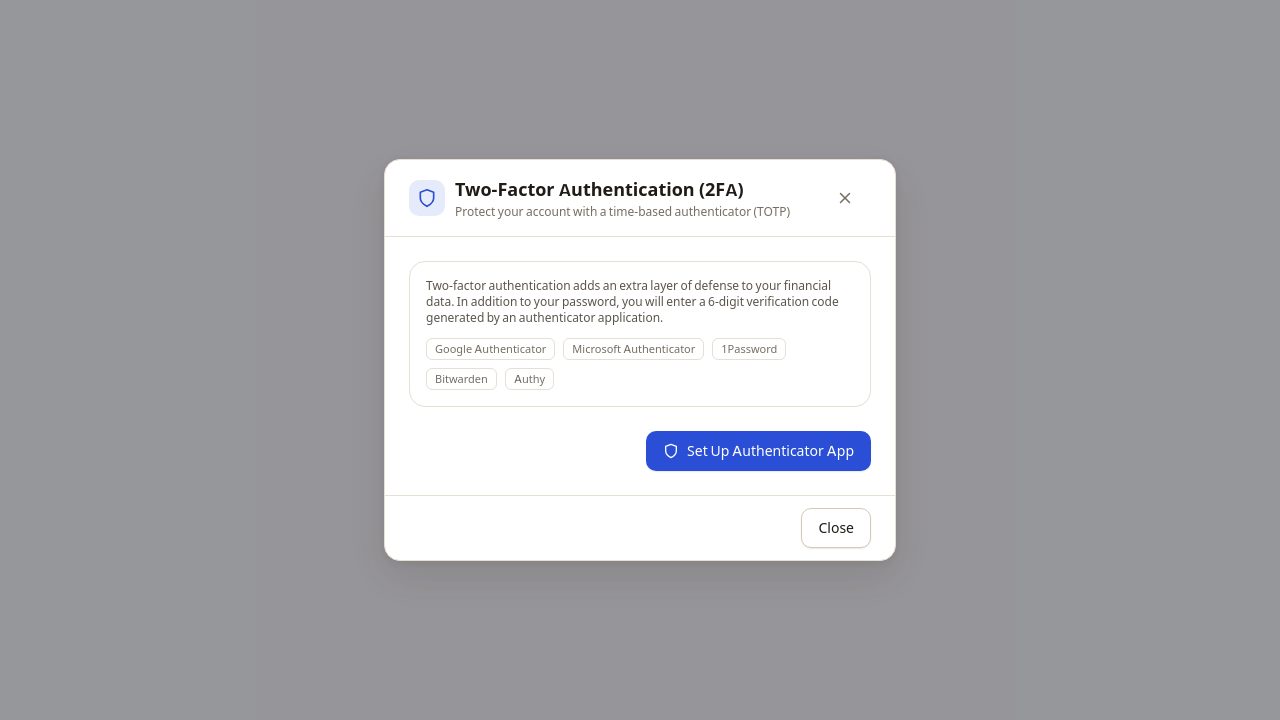
Scenario: Two-Factor Authentication (AUTH-14) › rejects invalid verification code with error message
The width and height of the screenshot is (1280, 720).
Click the button "Set Up Authenticator App" at [759, 451], box [646, 431, 871, 471]
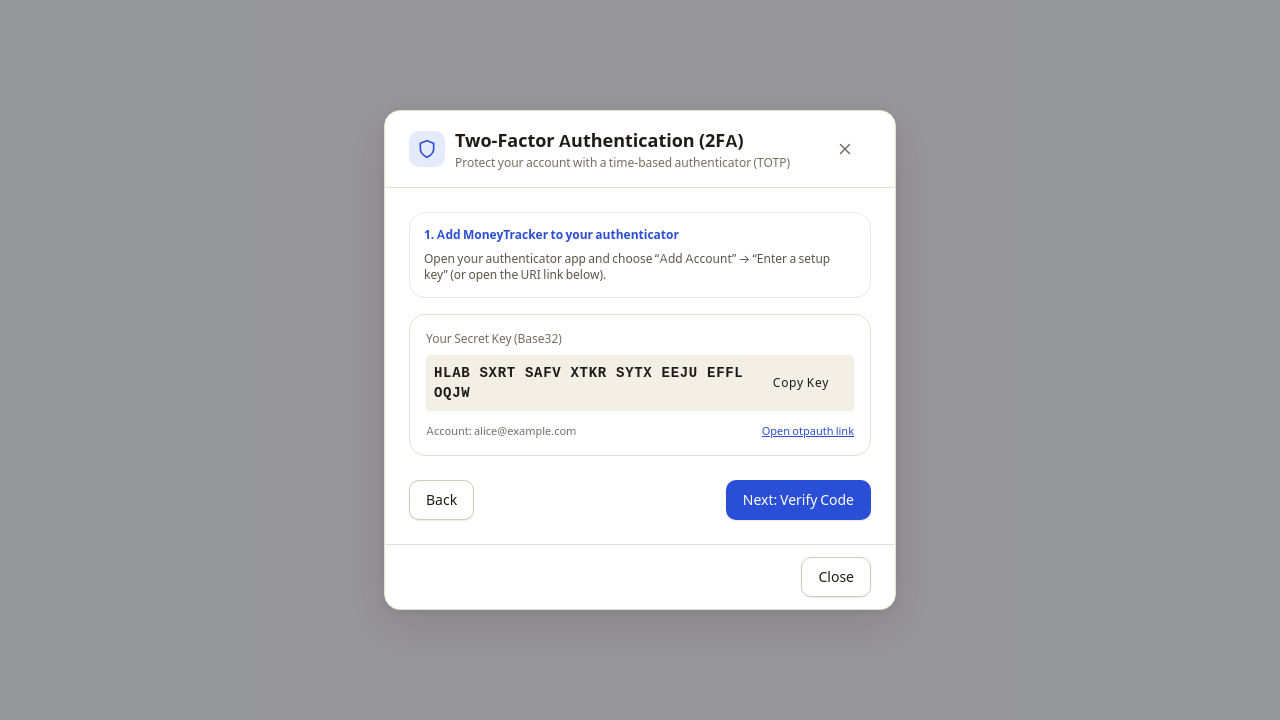
Click the button "Next: Verify Code" at [798, 500], box [726, 480, 871, 520]
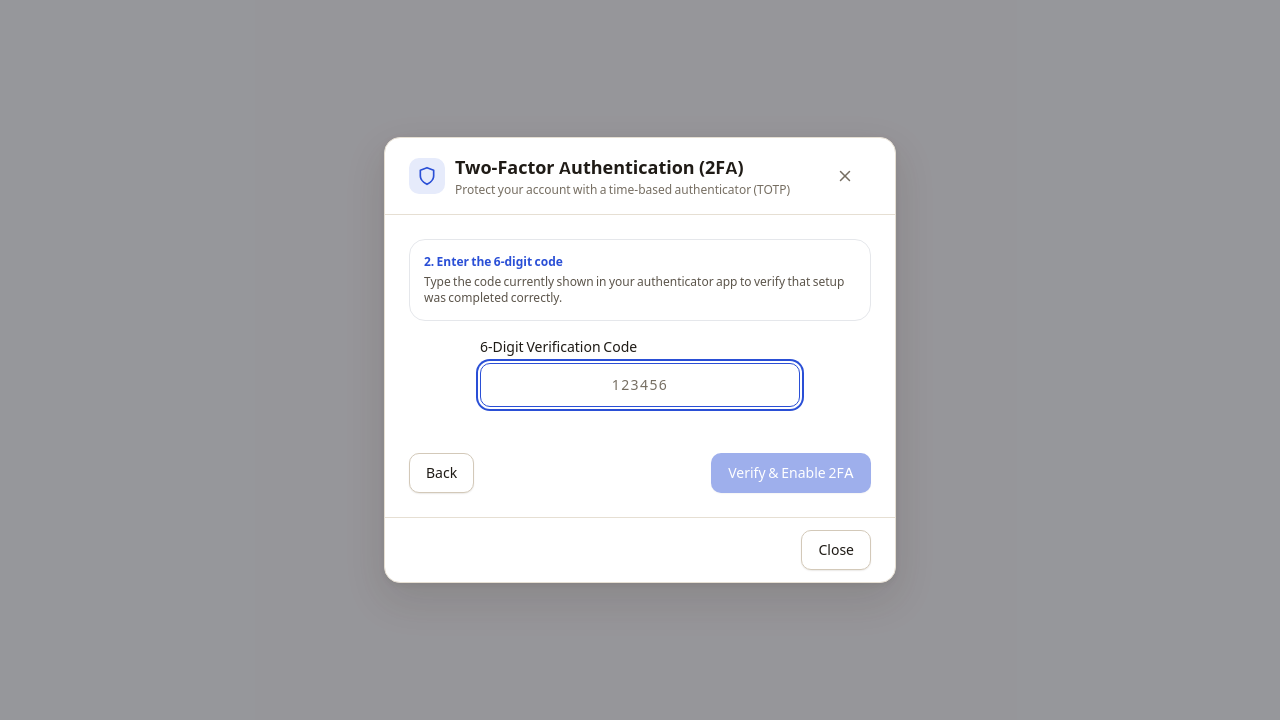
Type "000000" into the field labelled "6-Digit Verification Code" at [640, 385], box [480, 363, 800, 407]
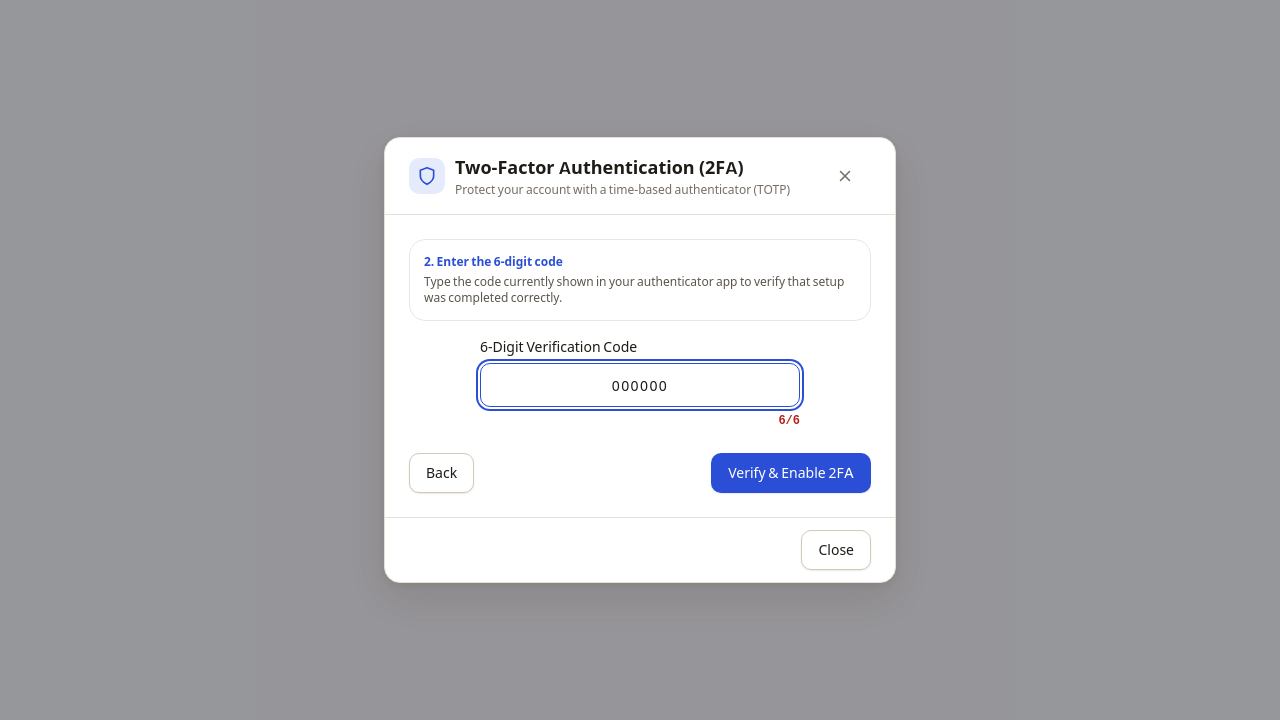
Click the button "Verify & Enable 2FA" at [791, 473], box [711, 453, 871, 493]
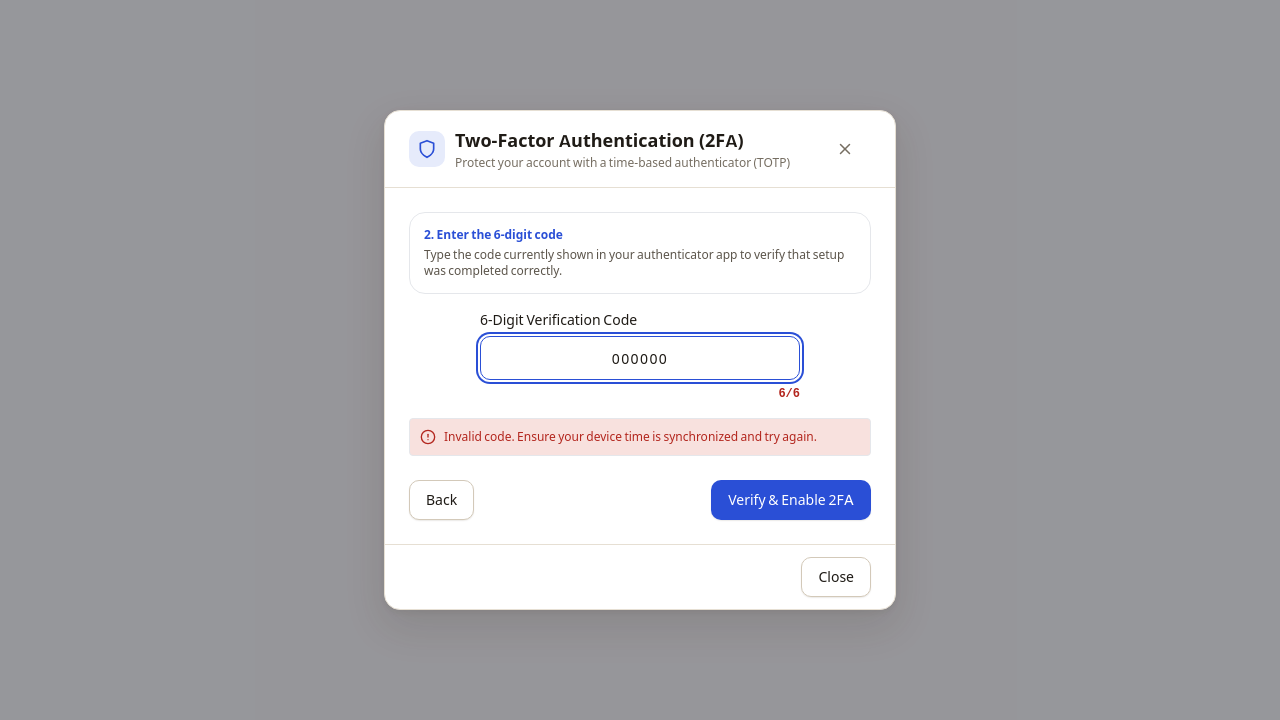
expect the text "Invalid code" is shown: met, box [444, 429, 817, 444]
